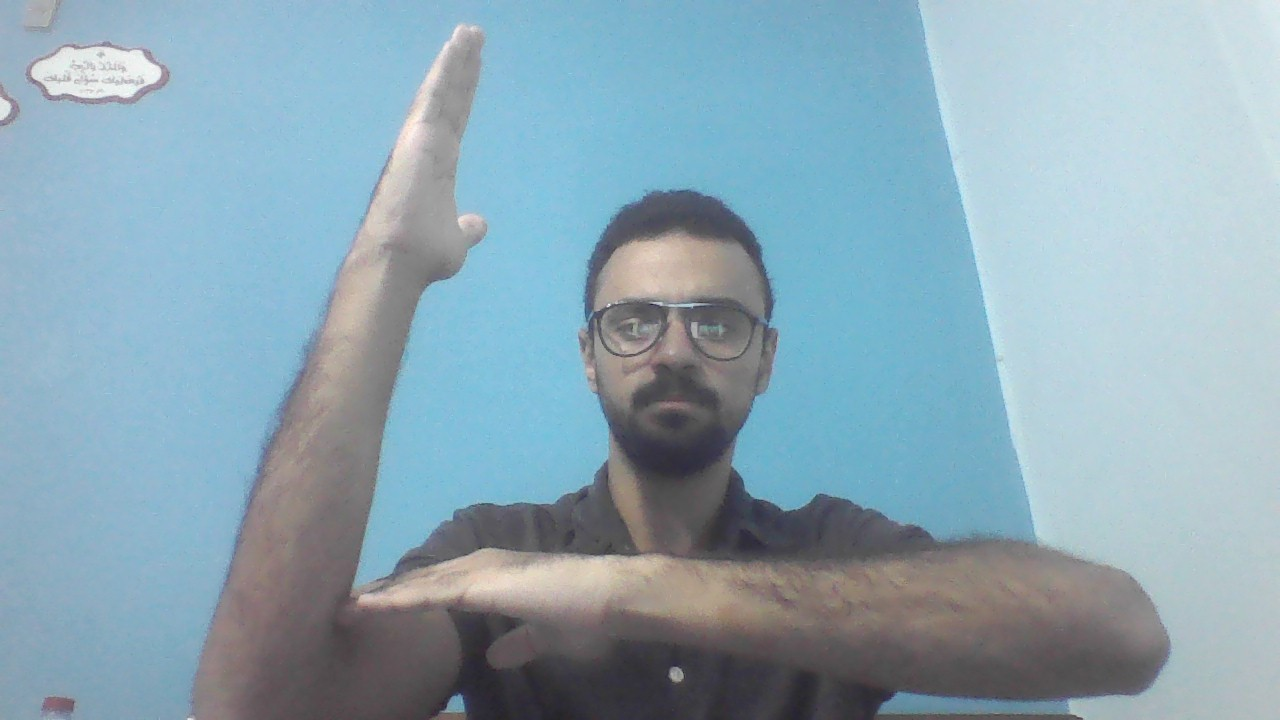morning: (194, 24, 1170, 715)
